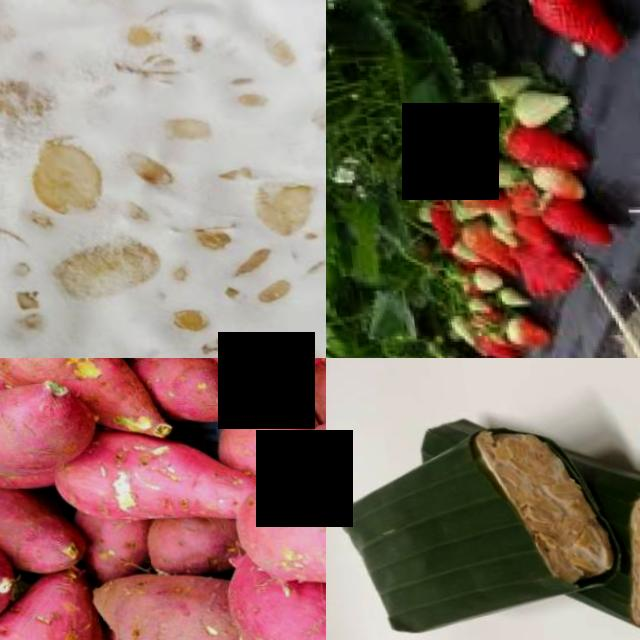strawberry: (514, 0, 620, 59), (530, 194, 602, 242)
sweet potato: (216, 444, 326, 590), (78, 437, 241, 520), (75, 568, 230, 640), (0, 379, 84, 483), (218, 577, 326, 640), (0, 358, 99, 379)
tempeh: (0, 0, 326, 358), (473, 428, 596, 578), (611, 488, 640, 618)
